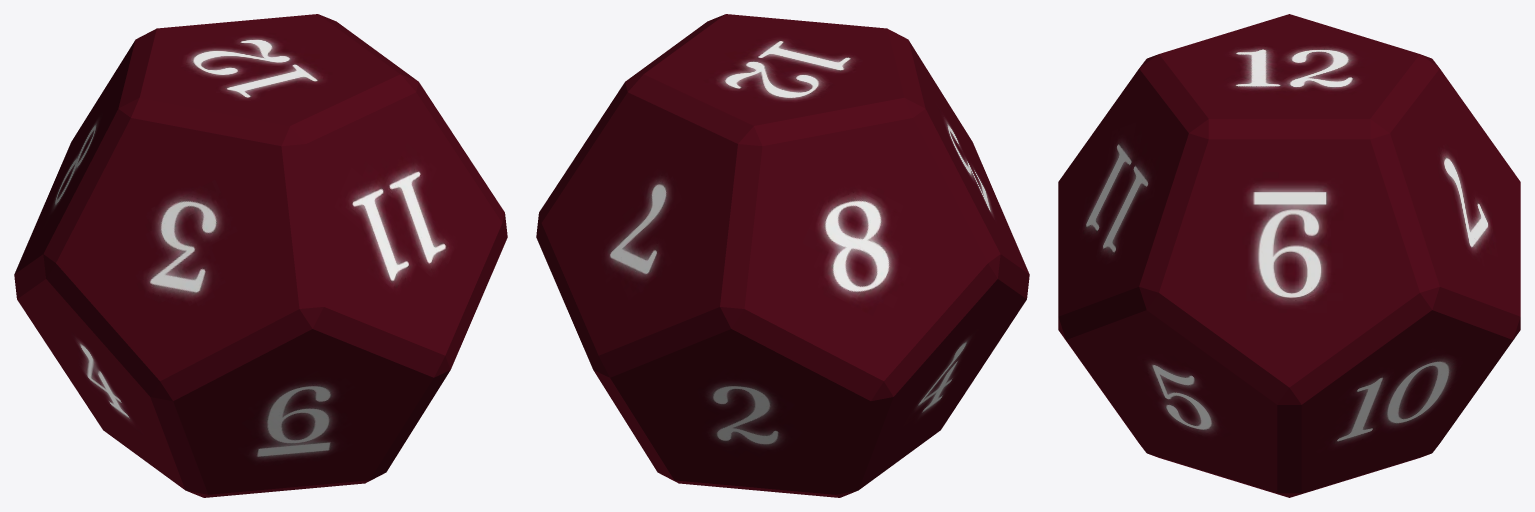
Rendered from D12Disadvantage.glb.
3 views of the same model, side by side, from view 1: azimuth 30°, elevation 25°; view 2: azimuth 150°, elevation 25°; view 3: azimuth 270°, elevation 25° (orthographic). The views are drawn at different scales.
Parts seen in each view (by area): view 1: D12Disadvantage; view 2: D12Disadvantage; view 3: D12Disadvantage.
Part boxes in pixels (<box>): D12Disadvantage: <box>14,14,507,497</box>; D12Disadvantage: <box>536,14,1029,497</box>; D12Disadvantage: <box>1058,14,1520,497</box>.
Bounding box in the file's own units: 2.8 × 2.34 × 2.66.
Materials: 1 (1 with a texture image).
